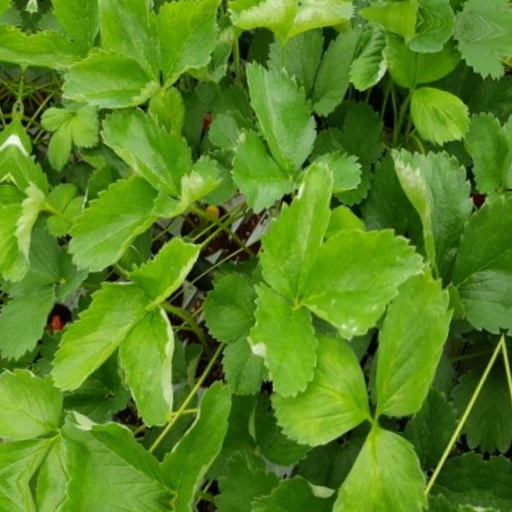Powdery Mildew Leaf: (305, 211, 426, 328), (376, 125, 465, 259), (82, 434, 213, 511), (258, 153, 325, 298), (256, 281, 330, 393), (130, 317, 196, 440), (129, 246, 201, 324), (144, 162, 213, 232), (320, 9, 362, 80)
